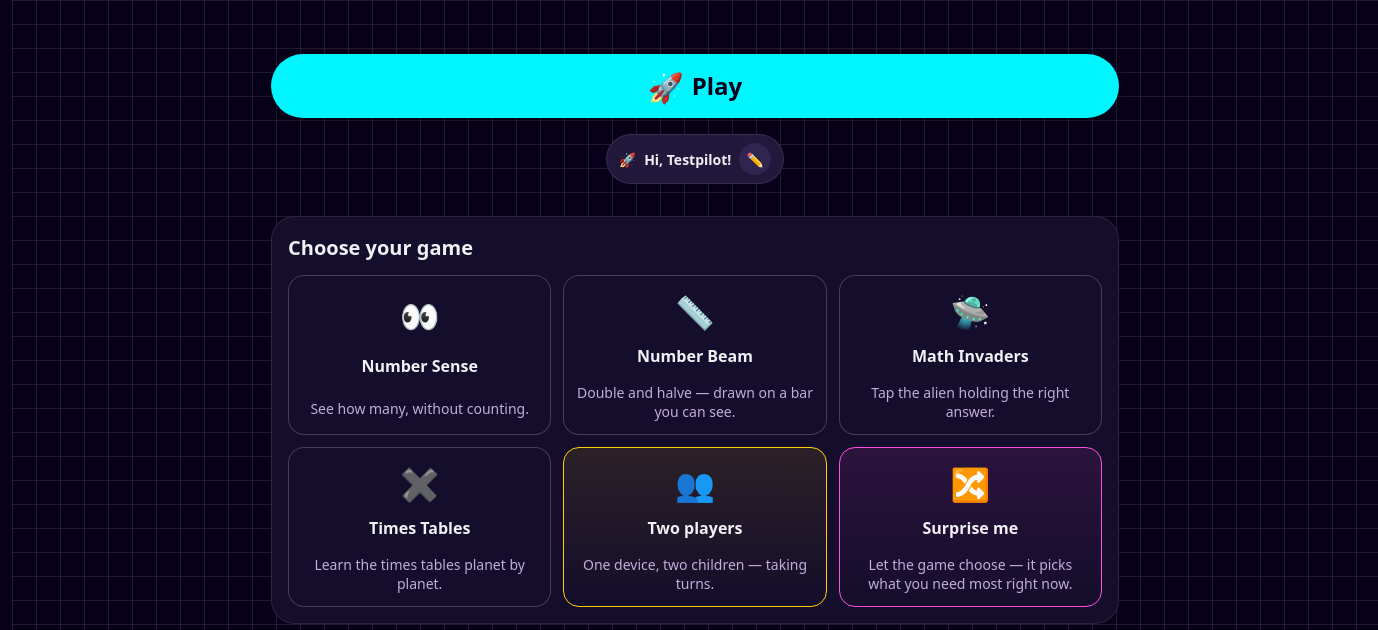
Test case: HomePage › sends the player straight into a game the picker chose
(page scrolled)
Click the button "Surprise me": click(970, 527) left=839, top=447, right=1102, bottom=607
(page scrolled)
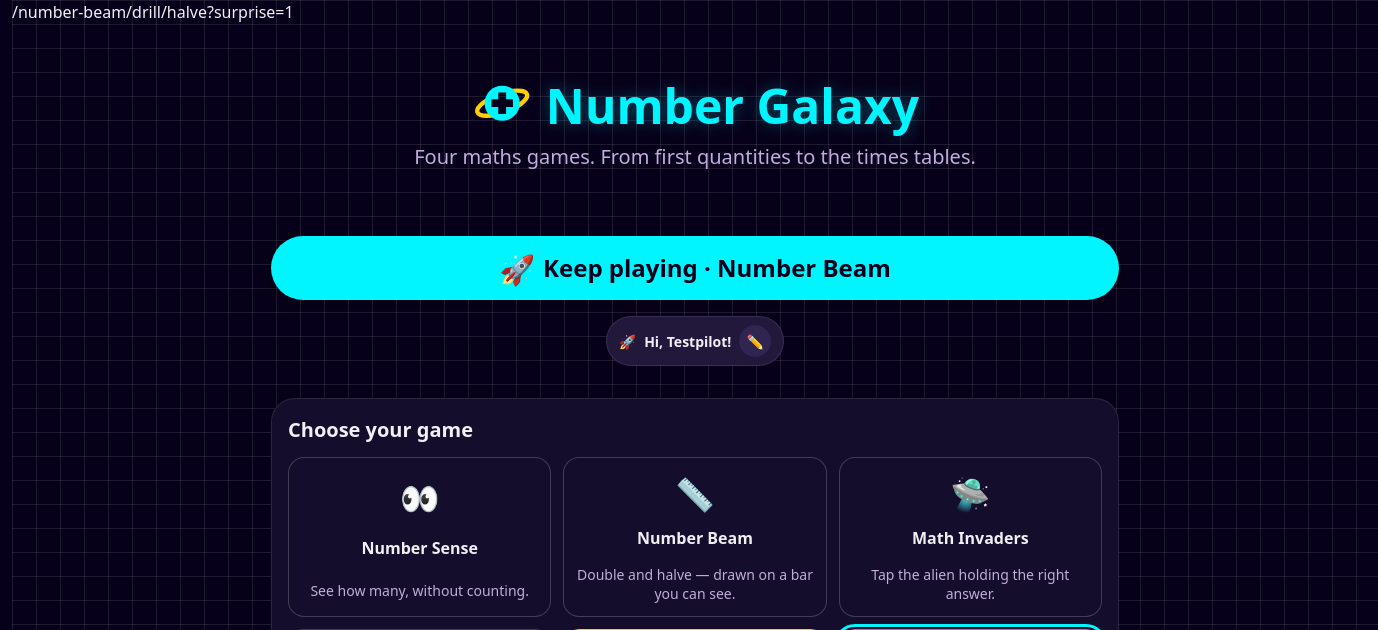
Result: the text with test id "test-location" reads "/number-beam/drill/halve?surprise=1" at left=12, top=1, right=207, bottom=23
